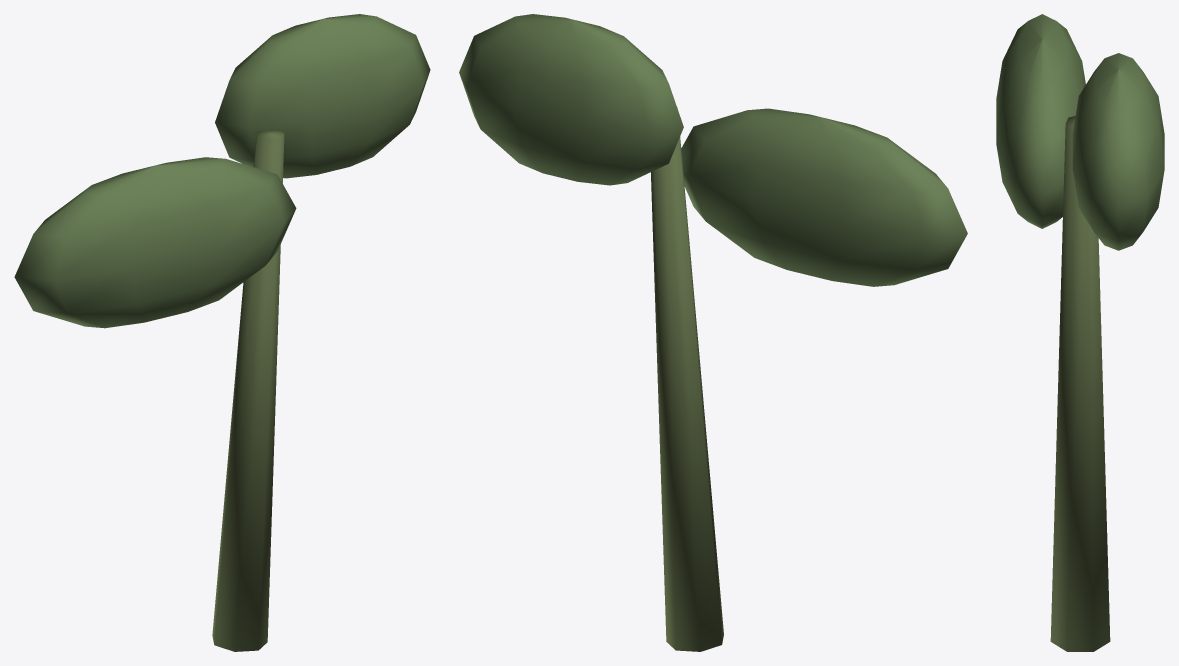
File: Sprout_2.glb
3 renders of one model, left to right at view 1: azimuth 30°, elevation 25°; view 2: azimuth 150°, elevation 25°; view 3: azimuth 270°, elevation 25°, orthographic. The views are drawn at different scales.
Parts seen in each view (by area): view 1: b612__Sprout_2__plant; view 2: b612__Sprout_2__plant; view 3: b612__Sprout_2__plant.
Part boxes in pixels (left/top/right/bottom): b612__Sprout_2__plant: left=14, top=14, right=430, bottom=651; b612__Sprout_2__plant: left=459, top=14, right=967, bottom=651; b612__Sprout_2__plant: left=996, top=14, right=1164, bottom=651.
Size of the model in its own units: 0.218 by 0.27 by 0.0661.
